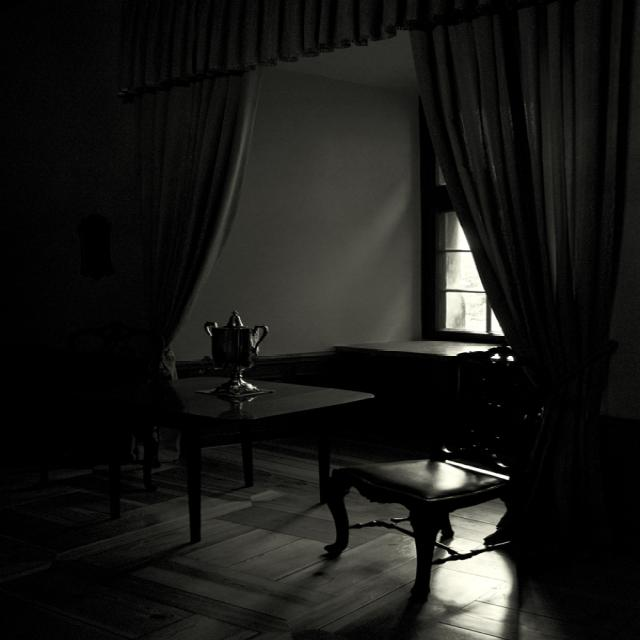Table: (85, 322, 419, 537)
chair: (318, 439, 545, 623)
